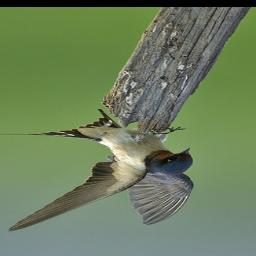Swallow: (0, 110, 196, 235)
